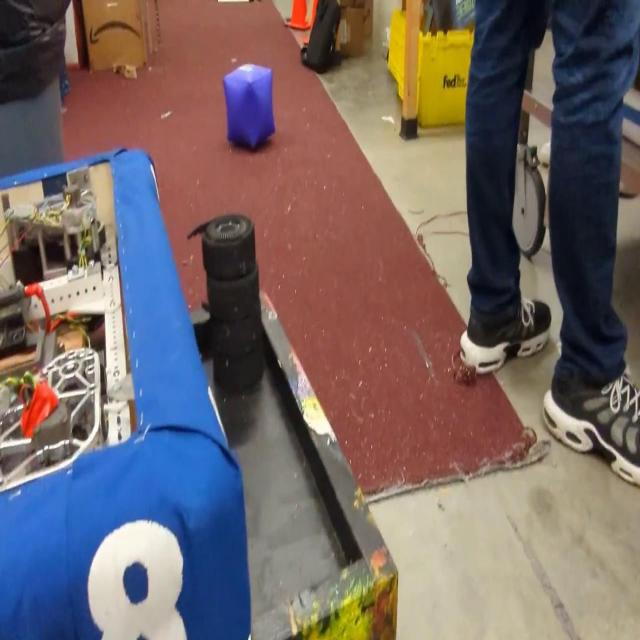frc_cube: (222, 61, 274, 152)
